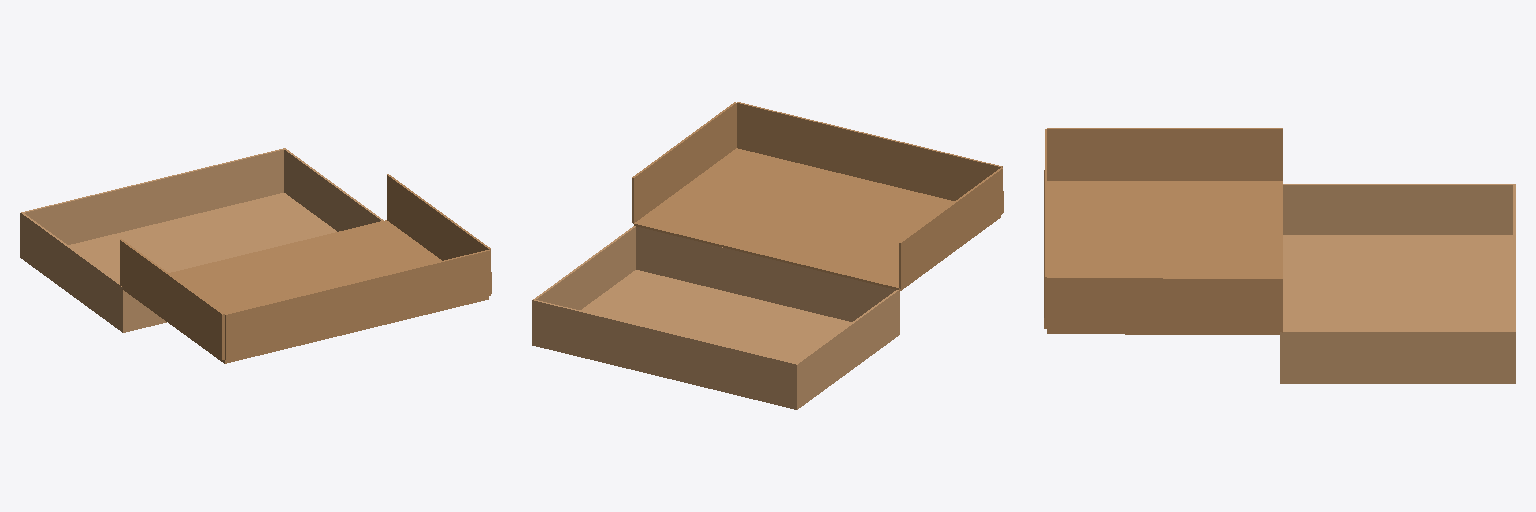
The robot description file, URDF, robot "shoebox_30x20x2_with_lid":
<?xml version="1.0"?>
<robot name="shoebox_30x20x2_with_lid">

  <!-- ================= 材质 ================= -->
  <material name="cardboard_color">
    <color rgba="0.82 0.65 0.48 1.0"/>
  </material>

  <material name="lid_color">
    <color rgba="0.78 0.60 0.42 1.0"/>
  </material>

  <!-- ================= 底座 ================= -->
  <link name="base_link">
    <visual>
      <origin xyz="0 0 0.00125"/>
      <geometry>
        <box size="0.30 0.20 0.0025"/>
      </geometry>
      <material name="cardboard_color"/>
    </visual>

    <collision>
      <origin xyz="0 0 0.00125"/>
      <geometry>
        <box size="0.30 0.20 0.0025"/>
      </geometry>
    </collision>

    <inertial>
      <mass value="0.06"/>
      <origin xyz="0 0 0.00125"/>
      <inertia ixx="1.2e-3" ixy="0" ixz="0"
               iyy="1.2e-3" iyz="0"
               izz="1.2e-3"/>
    </inertial>
  </link>

  <!-- ================= 前壁 ================= -->
  <link name="front_wall">
    <visual>
      <origin xyz="0 0.10125 0.025"/>
      <geometry>
        <box size="0.305 0.0025 0.05"/>
      </geometry>
      <material name="cardboard_color"/>
    </visual>
    <collision>
      <origin xyz="0 0.10125 0.025"/>
      <geometry>
        <box size="0.305 0.0025 0.05"/>
      </geometry>
    </collision>
  </link>

  <!-- ================= 后壁 ================= -->
  <link name="back_wall">
    <visual>
      <origin xyz="0 -0.10125 0.025"/>
      <geometry>
        <box size="0.305 0.0025 0.05"/>
      </geometry>
      <material name="cardboard_color"/>
    </visual>
    <collision>
      <origin xyz="0 -0.10125 0.025"/>
      <geometry>
        <box size="0.305 0.0025 0.05"/>
      </geometry>
    </collision>
  </link>

  <!-- ================= 左侧壁 ================= -->
  <link name="left_wall">
    <visual>
      <origin xyz="-0.15125 0 0.025"/>
      <geometry>
        <box size="0.0025 0.205 0.05"/>
      </geometry>
      <material name="cardboard_color"/>
    </visual>
    <collision>
      <origin xyz="-0.15125 0 0.025"/>
      <geometry>
        <box size="0.0025 0.205 0.05"/>
      </geometry>
    </collision>
  </link>

  <!-- ================= 右侧壁 ================= -->
  <link name="right_wall">
    <visual>
      <origin xyz="0.15125 0 0.025"/>
      <geometry>
        <box size="0.0025 0.205 0.05"/>
      </geometry>
      <material name="cardboard_color"/>
    </visual>
    <collision>
      <origin xyz="0.15125 0 0.025"/>
      <geometry>
        <box size="0.0025 0.205 0.05"/>
      </geometry>
    </collision>
  </link>

  <!-- ================= 盒体固定关节 ================= -->
  <joint name="j_front" type="fixed">
    <parent link="base_link"/>
    <child link="front_wall"/>
  </joint>

  <joint name="j_back" type="fixed">
    <parent link="base_link"/>
    <child link="back_wall"/>
  </joint>

  <joint name="j_left" type="fixed">
    <parent link="base_link"/>
    <child link="left_wall"/>
  </joint>

  <joint name="j_right" type="fixed">
    <parent link="base_link"/>
    <child link="right_wall"/>
  </joint>

  <!-- ============================================
       鞋盒盖子（顶板 + 三边边缘）
       ============================================ -->

  <!-- ================= 盖子顶板 ================= -->
  <link name="lid_top">
    <visual>
      <origin xyz="0 0.1 0.0025"/>
      <geometry>
        <box size="0.305 0.205 0.005"/>
      </geometry>
      <material name="lid_color"/>
    </visual>

    <collision>
      <origin xyz="0 0 0.0025"/>
      <geometry>
        <box size="0.305 0.205 0.005"/>
      </geometry>
    </collision>

    <inertial>
      <mass value="0.04"/>
      <origin xyz="0 0 0.0025"/>
      <inertia ixx="8e-4" ixy="0" ixz="0"
               iyy="8e-4" iyz="0"
               izz="8e-4"/>
    </inertial>
  </link>

  <!-- ================= 盖子前边缘 ================= -->
  <link name="lid_front_edge">
    <visual>
      <origin xyz="0 0.20375 -0.025"/>
      <geometry>
        <box size="0.305 0.0025 0.05"/>
      </geometry>
      <material name="lid_color"/>
    </visual>
    <collision>
      <origin xyz="0 0.10375 -0.025"/>
      <geometry>
        <box size="0.305 0.0025 0.05"/>
      </geometry>
    </collision>
  </link>

  <!-- ================= 盖子左边缘 ================= -->
  <link name="lid_left_edge">
    <visual>
      <origin xyz="-0.15375 0.1 -0.025"/>
      <geometry>
        <box size="0.0025 0.205 0.05"/>
      </geometry>
      <material name="lid_color"/>
    </visual>
    <collision>
      <origin xyz="-0.15375 0 -0.025"/>
      <geometry>
        <box size="0.0025 0.205 0.05"/>
      </geometry>
    </collision>
  </link>

  <!-- ================= 盖子右边缘 ================= -->
  <link name="lid_right_edge">
    <visual>
      <origin xyz="0.15375 0.1 -0.025"/>
      <geometry>
        <box size="0.0025 0.205 0.05"/>
      </geometry>
      <material name="lid_color"/>
    </visual>
    <collision>
      <origin xyz="0.15375 0 -0.025"/>
      <geometry>
        <box size="0.0025 0.205 0.05"/>
      </geometry>
    </collision>
  </link>

  <!-- ================= 盖子关节 ================= -->
  <joint name="lid_joint" type="fixed">
   <parent link="base_link"/>
    <child link="lid_top"/>
    <origin xyz="0 -0.1025 0.0525"
          rpy="3.14 0 0"/>
  </joint>

  <joint name="j_lid_front" type="fixed">
    <parent link="lid_top"/>
    <child link="lid_front_edge"/>
  </joint>

  <joint name="j_lid_left" type="fixed">
    <parent link="lid_top"/>
    <child link="lid_left_edge"/>
  </joint>

  <joint name="j_lid_right" type="fixed">
    <parent link="lid_top"/>
    <child link="lid_right_edge"/>
  </joint>

</robot>

--- What the picture shows (computed from the rendered views, not written in the file) ---
The picture shows the robot from 3 angles, left to right: view 1: azimuth 30°, elevation 25°; view 2: azimuth 150°, elevation 25°; view 3: azimuth 270°, elevation 25°; orthographic projection.
Robot: shoebox_30x20x2_with_lid — 9 links, 8 joints (8 fixed); root link base_link; default pose: all joints at 0.
Visible links, largest first — view 1: lid_top, lid_front_edge, front_wall, base_link, lid_left_edge, left_wall, lid_right_edge, right_wall, back_wall; view 2: lid_top, front_wall, base_link, lid_front_edge, back_wall, lid_right_edge, lid_left_edge, left_wall, right_wall; view 3: lid_top, base_link, lid_right_edge, lid_left_edge, right_wall, left_wall, front_wall, lid_front_edge.
Boxes of the visible links, x1,y1,x2,y2 form: lid_top: (122, 220, 488, 363); lid_front_edge: (225, 250, 490, 359); front_wall: (20, 148, 285, 258); base_link: (68, 193, 336, 282); lid_left_edge: (120, 239, 224, 359); left_wall: (20, 213, 124, 332); lid_right_edge: (387, 174, 491, 293); right_wall: (283, 148, 383, 231); back_wall: (122, 287, 166, 332); lid_top: (634, 148, 1000, 291); front_wall: (532, 300, 797, 409); base_link: (580, 270, 851, 362); lid_front_edge: (737, 102, 1002, 200); back_wall: (636, 227, 899, 333); lid_right_edge: (632, 102, 736, 223); lid_left_edge: (899, 167, 1003, 288); left_wall: (795, 290, 899, 409); right_wall: (532, 226, 635, 345); lid_top: (1047, 181, 1282, 334); base_link: (1283, 235, 1512, 330); lid_right_edge: (1047, 277, 1282, 330); lid_left_edge: (1047, 128, 1282, 180); right_wall: (1280, 331, 1515, 383); left_wall: (1283, 184, 1514, 234); front_wall: (1513, 184, 1515, 383); lid_front_edge: (1044, 129, 1046, 328).
Bounding box of the posed robot: 0.31 × 0.41 × 0.1028 m (x, y, z).
Geometry: primitives only (box / cylinder / sphere), no mesh files.
